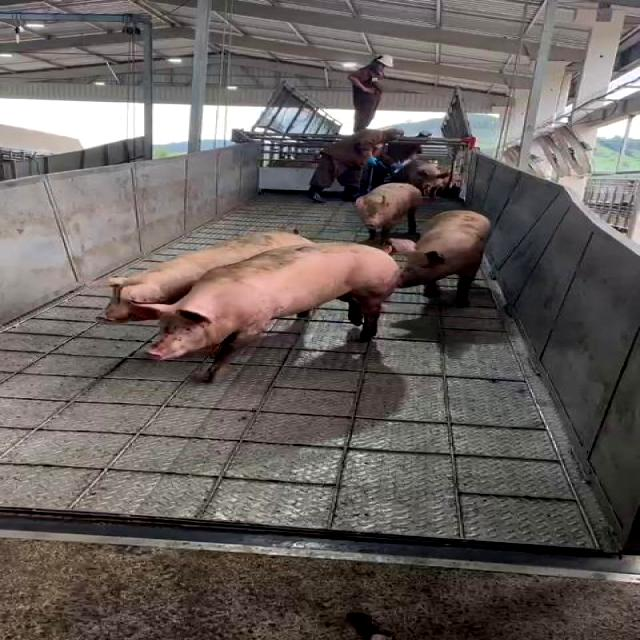pig: (133, 244, 399, 380), (105, 231, 314, 322), (391, 211, 490, 304), (357, 184, 422, 245)
